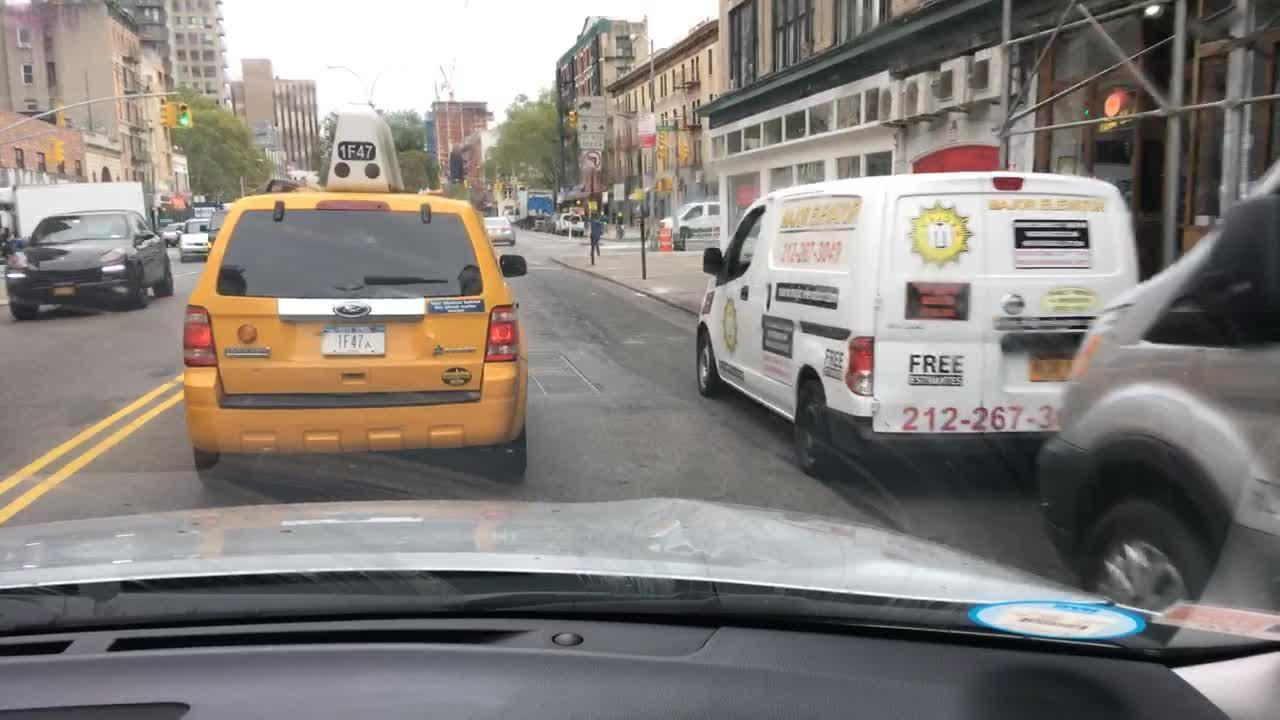Nissan: (998, 289, 1030, 317)
ford: (332, 300, 372, 320)
